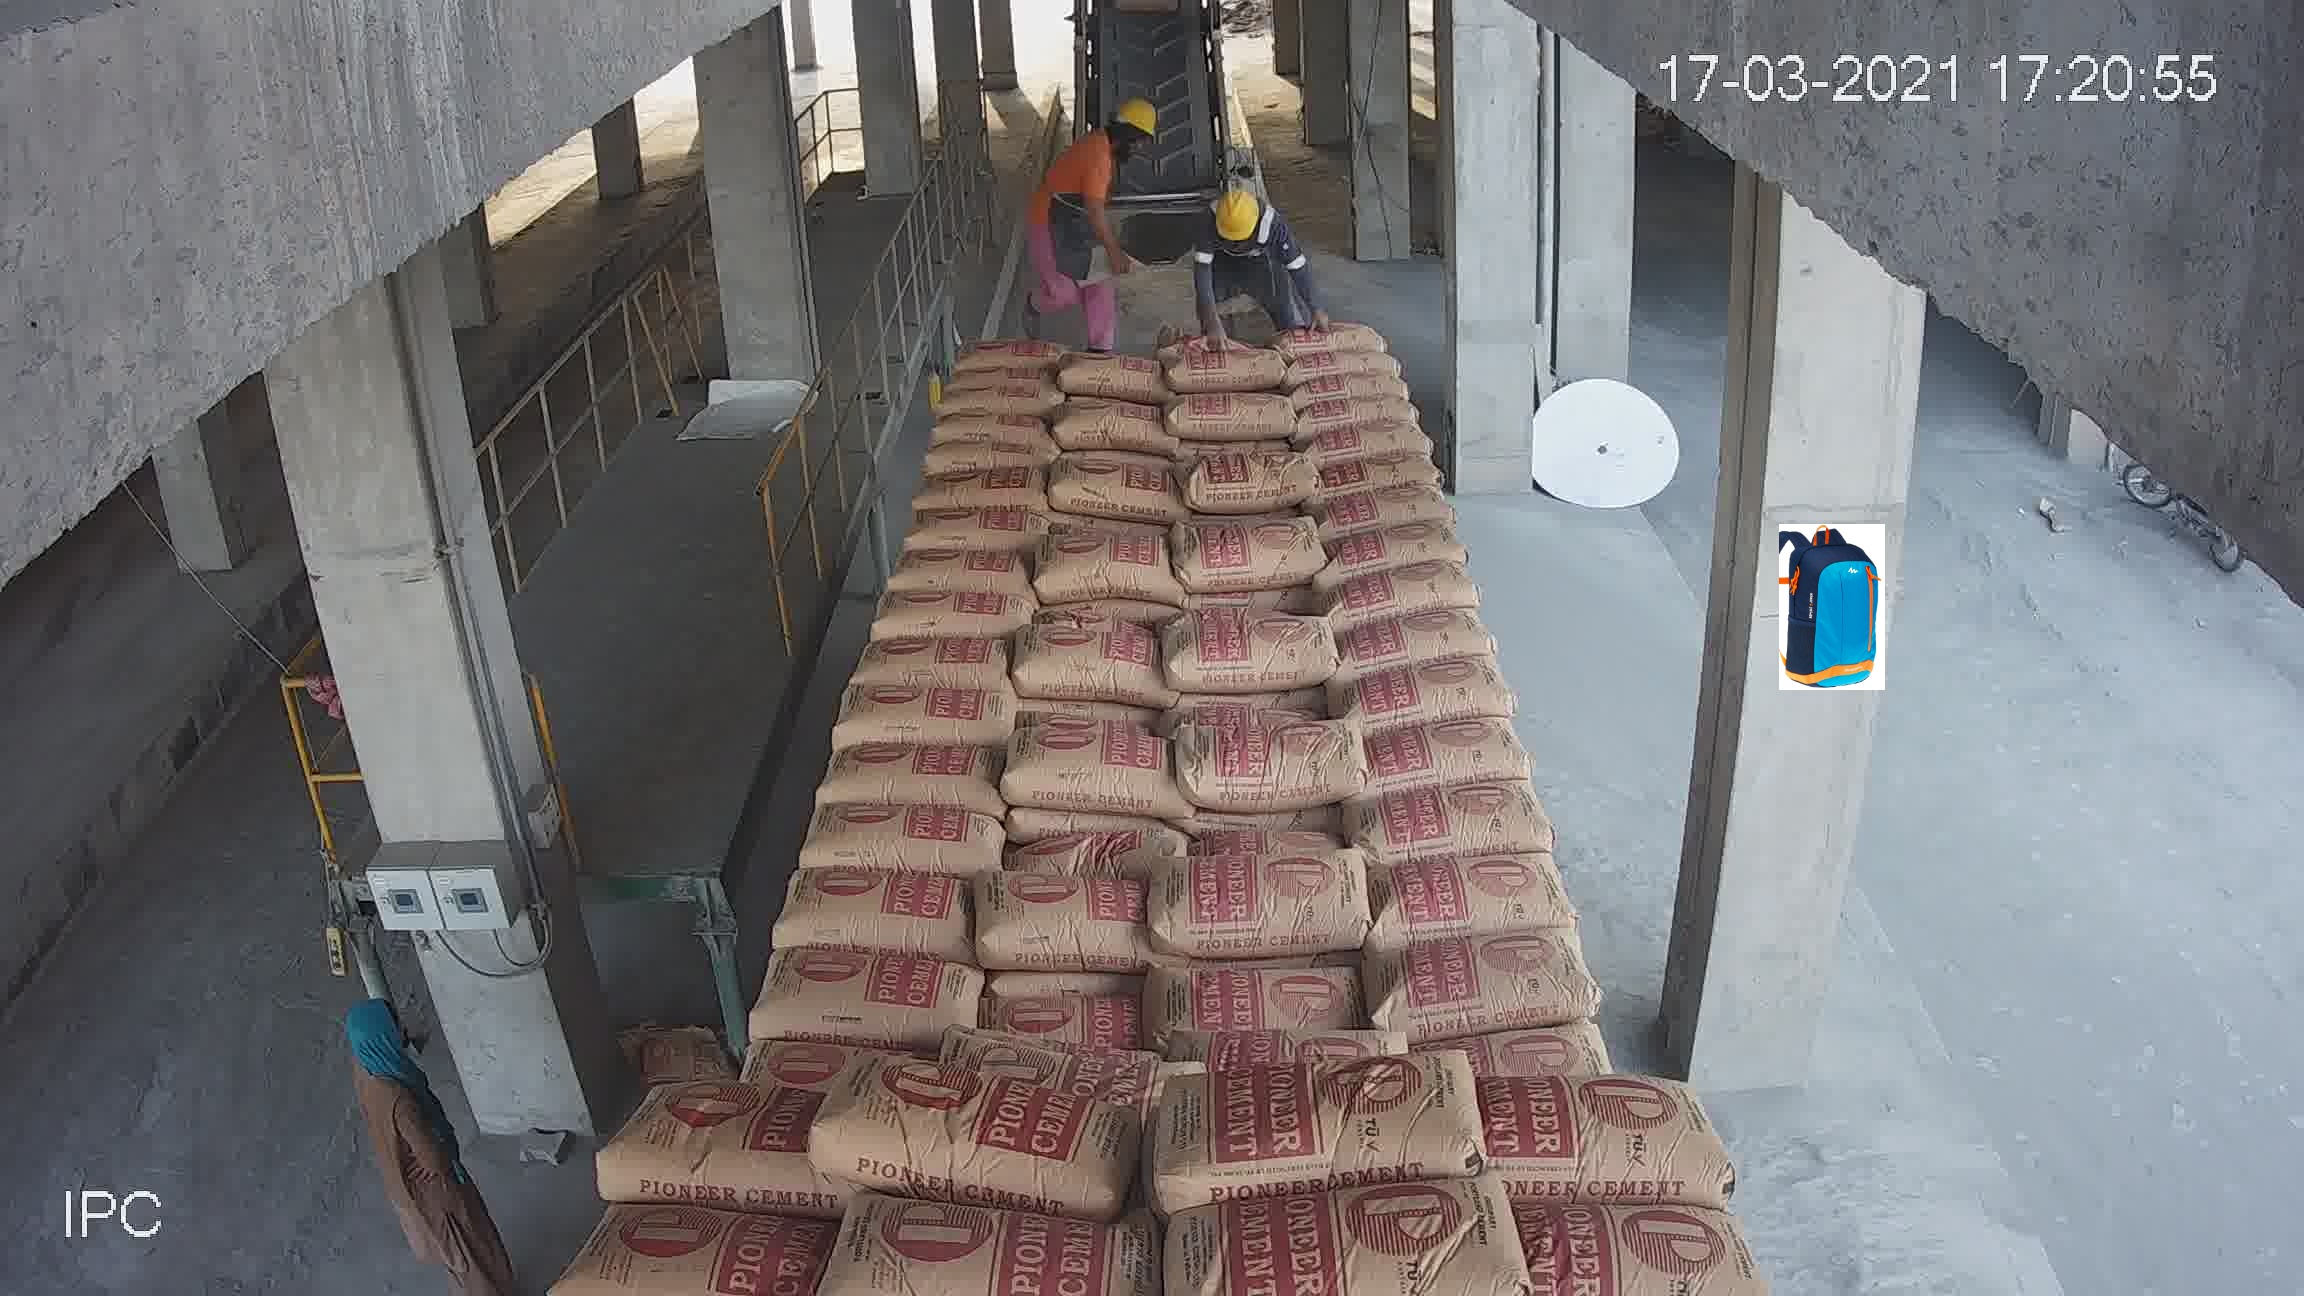bag: (1079, 402, 1199, 552), (1082, 5, 1203, 111)
bag_h: (1150, 1135, 1554, 1280), (1152, 1051, 1492, 1195), (1133, 938, 1449, 1084), (570, 1063, 873, 1206), (815, 1070, 1146, 1196), (885, 949, 1157, 1081), (1163, 820, 1429, 949), (1483, 1070, 1730, 1201), (892, 843, 1152, 957), (824, 1203, 1157, 1287), (1457, 972, 1703, 1078), (628, 978, 885, 1079), (902, 755, 1169, 850), (687, 855, 885, 983), (576, 1199, 836, 1293), (714, 772, 902, 881), (1518, 1203, 1760, 1279), (1432, 859, 1630, 948), (1405, 772, 1593, 840), (1173, 782, 1362, 847), (1342, 609, 1499, 687), (1027, 654, 1177, 733), (1356, 718, 1541, 779), (1367, 652, 1518, 722), (1339, 559, 1483, 625), (1040, 726, 1184, 783), (1337, 479, 1449, 552), (1358, 524, 1468, 589), (1337, 453, 1443, 503), (1016, 630, 1161, 666), (1366, 405, 1424, 460), (1313, 309, 1381, 356), (1339, 351, 1407, 381)
belt: (989, 0, 1294, 524)
